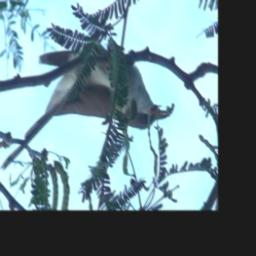Cuckoo: (0, 35, 173, 174)
